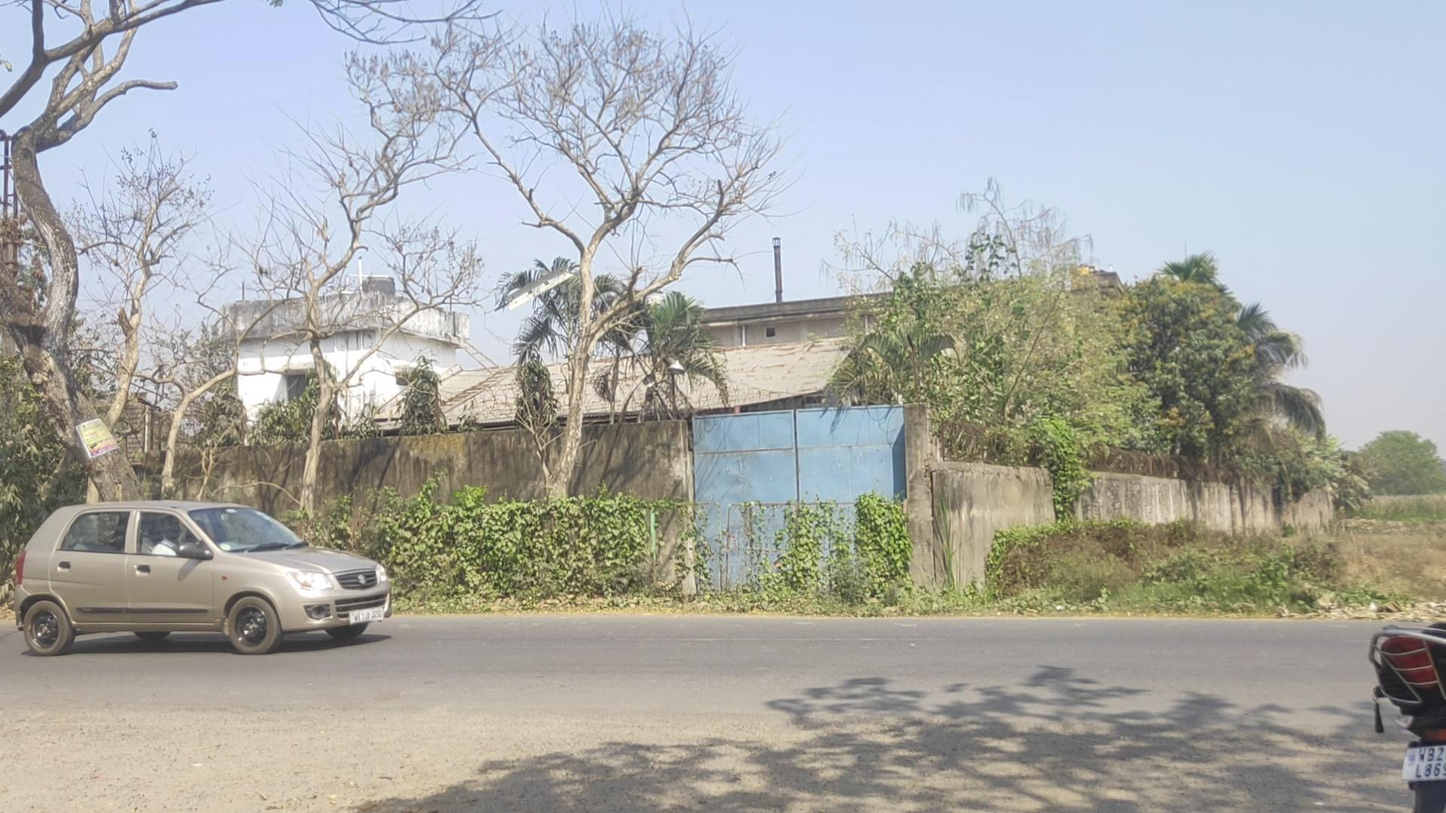car: (13, 500, 392, 656)
